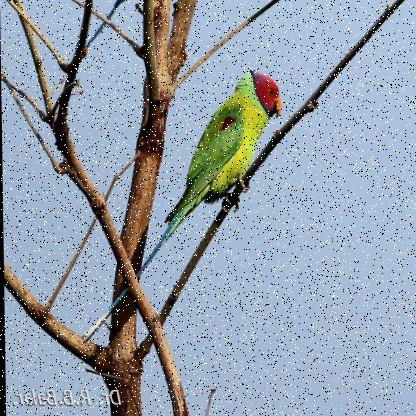Burung: (78, 70, 284, 344)
